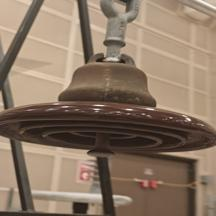insulator: (1, 45, 216, 163)
